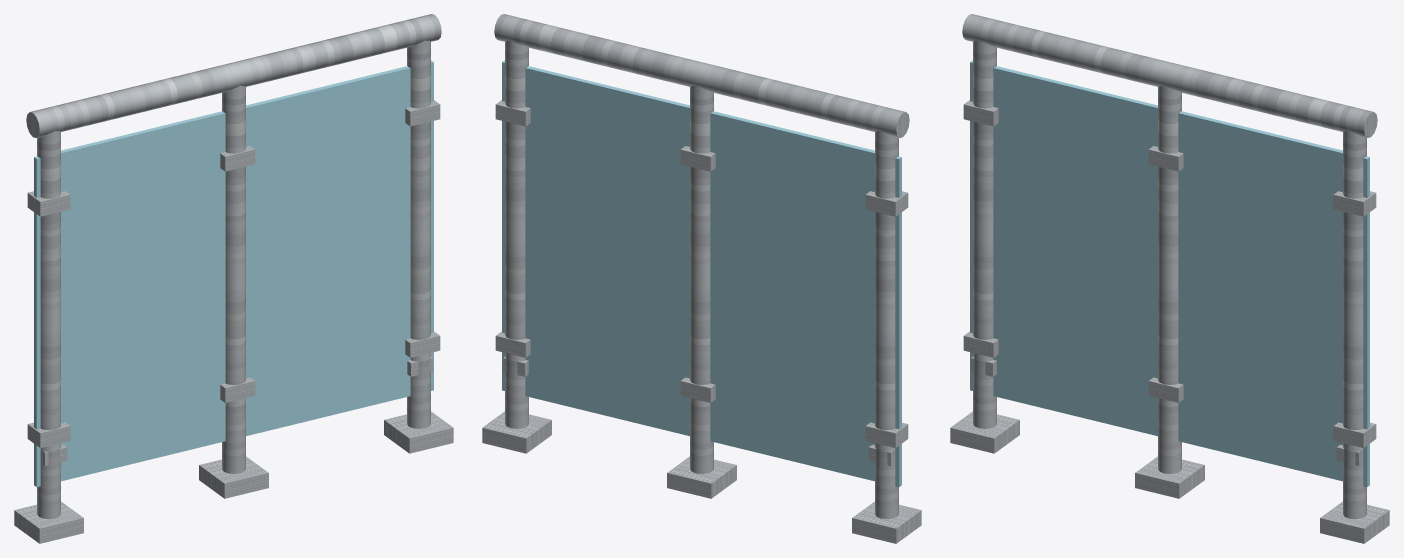
File: fence.glb
The picture shows the model from 3 angles, left to right: view 1: azimuth 30°, elevation 25°; view 2: azimuth 150°, elevation 25°; view 3: azimuth 330°, elevation 25°; orthographic projection.
Visible parts, largest first — view 1: Fence; view 2: Fence; view 3: Fence.
Boxes of the visible parts, <box> form: Fence: <box>14,14,453,543</box>; Fence: <box>482,14,921,543</box>; Fence: <box>950,14,1389,543</box>.
Bounding box in the file's own units: 1.03 × 0.999 × 0.11.
Materials: 2 (1 with a texture image).
